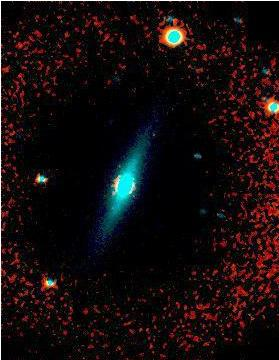star: (138, 119, 168, 149)
